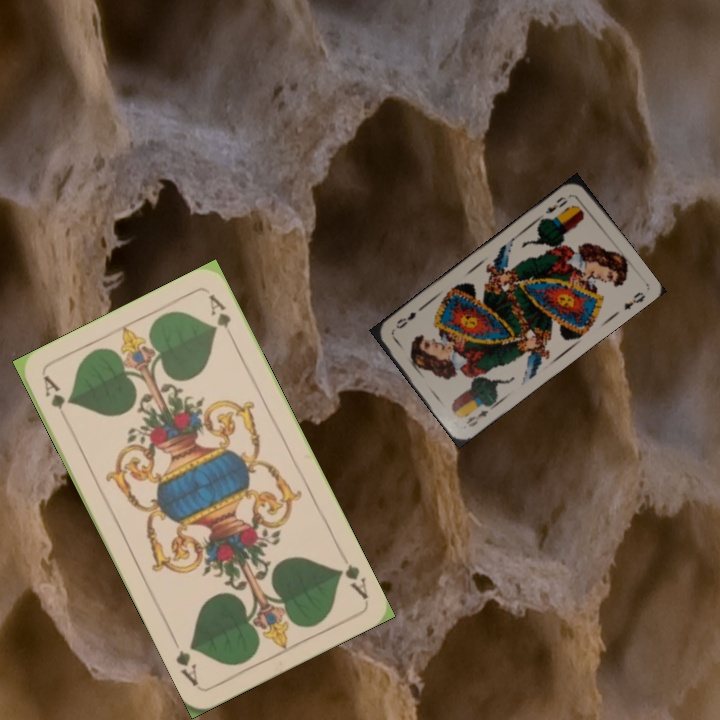EO: (462, 406, 491, 430), (542, 192, 570, 216)
GA: (332, 548, 371, 603), (39, 372, 68, 412)
